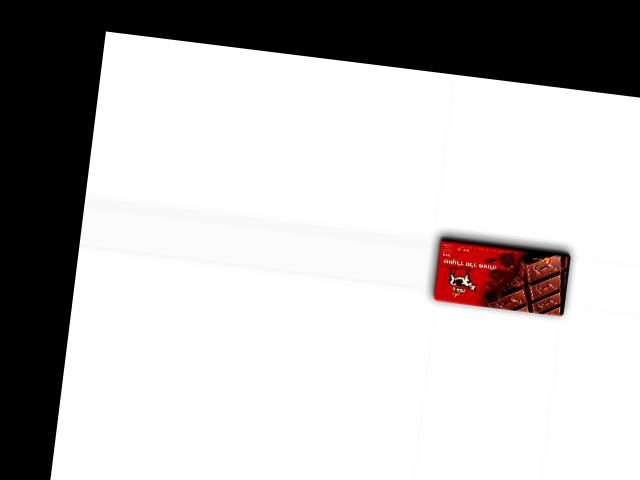chocolate: (429, 233, 573, 319)
